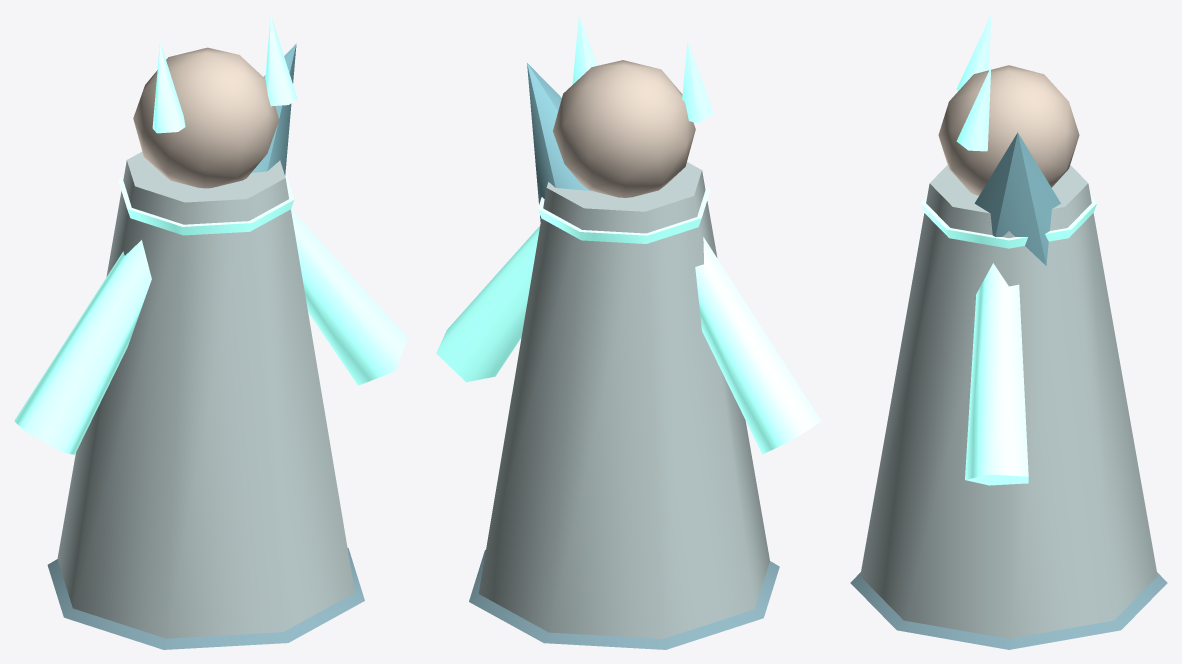
Rendered from hero-3d.glb.
3 views of the same model, side by side, from view 1: azimuth 30°, elevation 25°; view 2: azimuth 150°, elevation 25°; view 3: azimuth 270°, elevation 25° (orthographic). The views are drawn at different scales.
Size of the model in its own units: 0.9679 by 1.36 by 0.72.
